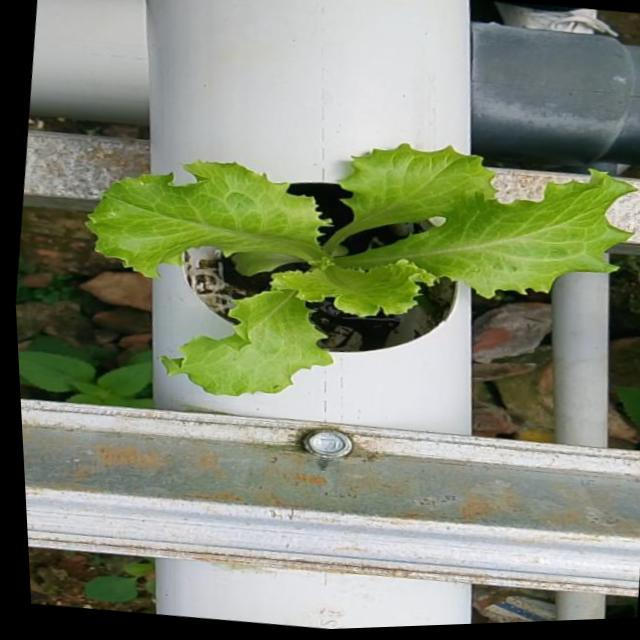Baby: (82, 145, 633, 396)
